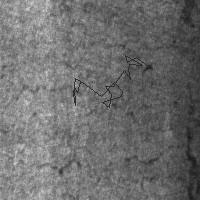crazing: (2, 83, 84, 135), (73, 55, 152, 107), (121, 109, 185, 164), (2, 143, 100, 178)
